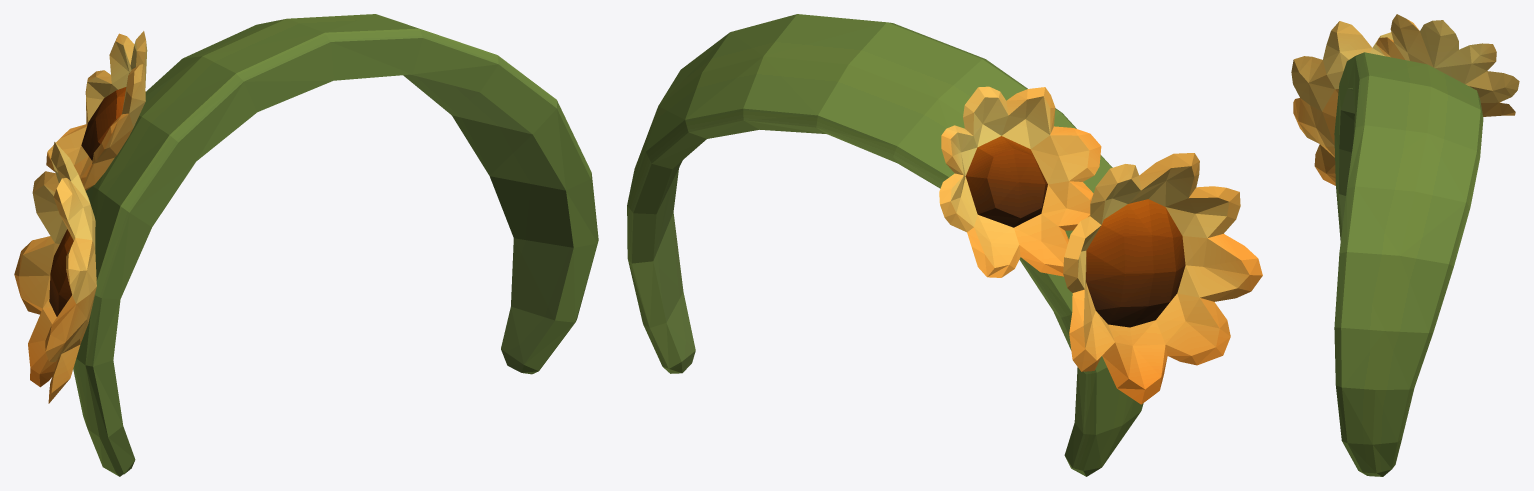
File: CharSkyKid_Hat_SunflowerHeadband.glb
3 renders of one model, left to right at view 1: azimuth 30°, elevation 25°; view 2: azimuth 150°, elevation 25°; view 3: azimuth 270°, elevation 25°, orthographic. The views are drawn at different scales.
Parts seen in each view (by area): view 1: CharSkyKid_Hat_SunflowerHeadband; view 2: CharSkyKid_Hat_SunflowerHeadband; view 3: CharSkyKid_Hat_SunflowerHeadband.
Boxes of the visible parts, x1=… form: CharSkyKid_Hat_SunflowerHeadband: x1=14, y1=14, x2=598, y2=476; CharSkyKid_Hat_SunflowerHeadband: x1=627, y1=14, x2=1262, y2=476; CharSkyKid_Hat_SunflowerHeadband: x1=1291, y1=14, x2=1519, y2=476.
Size of the model in its own units: 2.94 by 1.91 by 1.22.
1 material, 1 textured.
